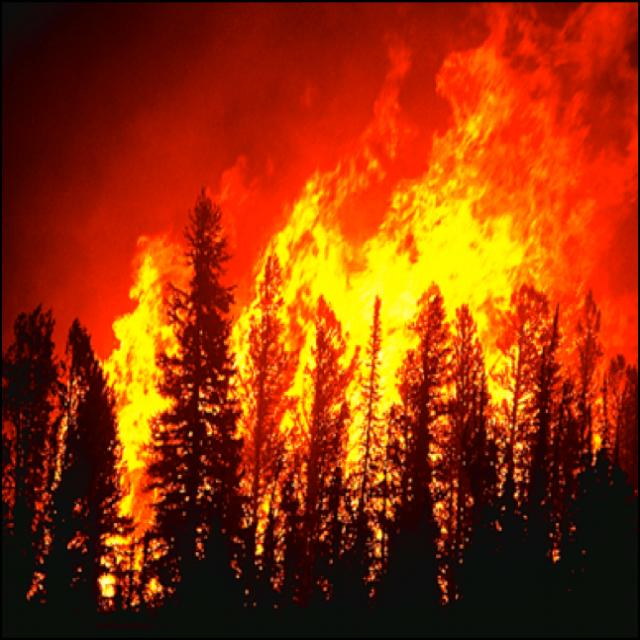Fire: (113, 84, 597, 527)
